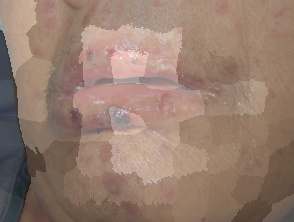SJS-TEN: (37, 36, 218, 138), (80, 143, 183, 222)
